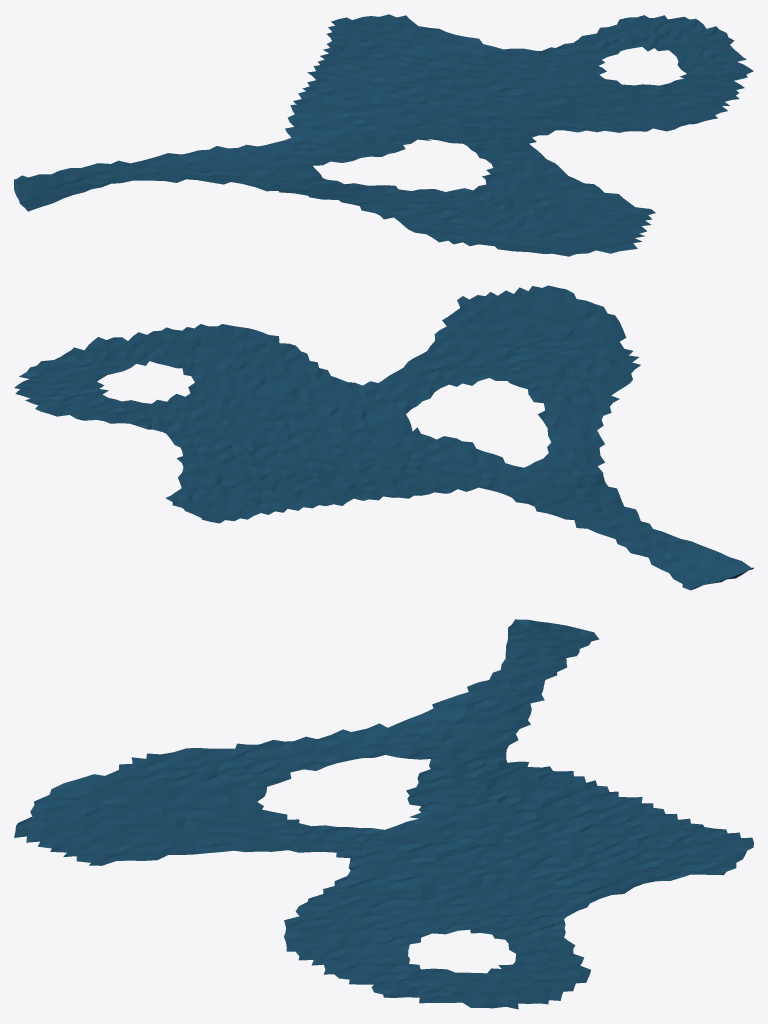
The model's file is ZEME_001_UDENS.FBX.
The picture shows the model from 3 angles, top to bottom: view 1: azimuth 30°, elevation 25°; view 2: azimuth 150°, elevation 25°; view 3: azimuth 270°, elevation 25°; orthographic projection. The views are drawn at different scales.
Visible parts, largest first — view 1: ZEME_001_UDENS; view 2: ZEME_001_UDENS; view 3: ZEME_001_UDENS.
Part boxes in pixels (x1,y1,x2,y2): ZEME_001_UDENS: [14, 14, 753, 256]; ZEME_001_UDENS: [14, 285, 753, 590]; ZEME_001_UDENS: [14, 619, 753, 1009].
Bounding box in the file's own units: 131081 × 3852 × 101383.
